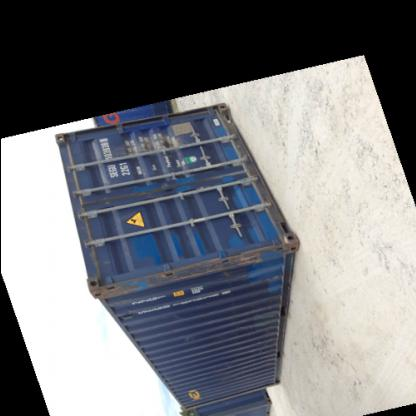Damage: (182, 243, 278, 278), (88, 266, 184, 298), (247, 304, 273, 340)
